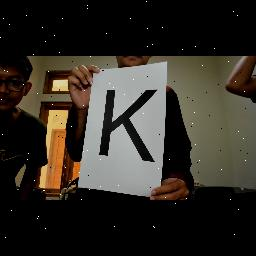k: (100, 86, 160, 162)
